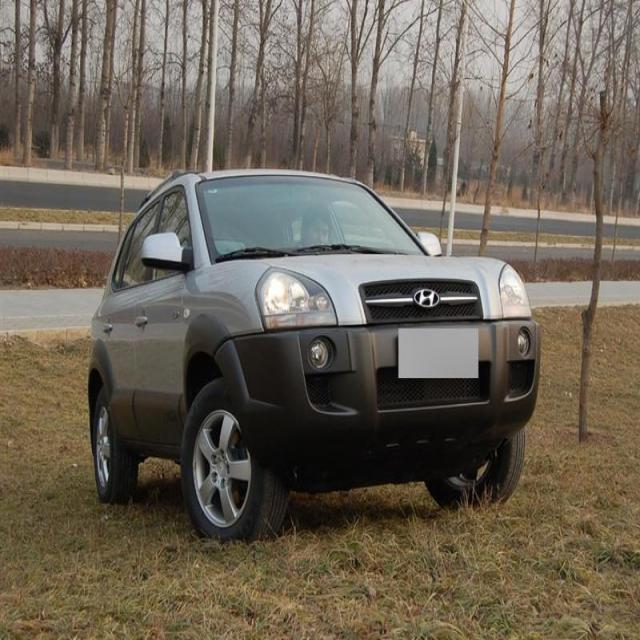front_bumper: (210, 314, 544, 466)
front_glass: (198, 172, 430, 263)
front_left_side_light: (496, 258, 533, 323)
front_left_side_mirror: (413, 223, 444, 260)
front_right_side_door: (130, 182, 192, 452)
front_right_side_light: (253, 263, 339, 334)
front_right_side_mirror: (140, 228, 190, 274)
wheel: (181, 377, 286, 540), (424, 422, 528, 508), (91, 376, 139, 503)
